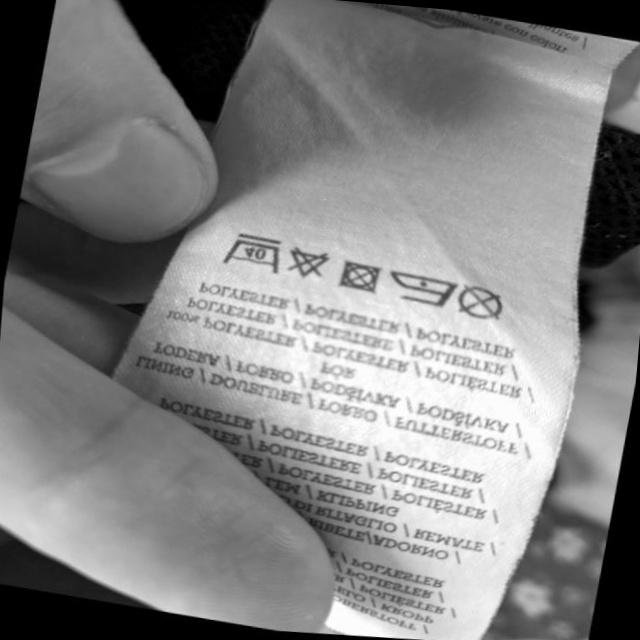40C: (225, 230, 284, 276)
DN_bleach: (286, 245, 332, 284)
DN_dry_clean: (460, 279, 506, 321)
DN_tumble_dry: (335, 258, 385, 295)
iron_low: (388, 269, 460, 311)
